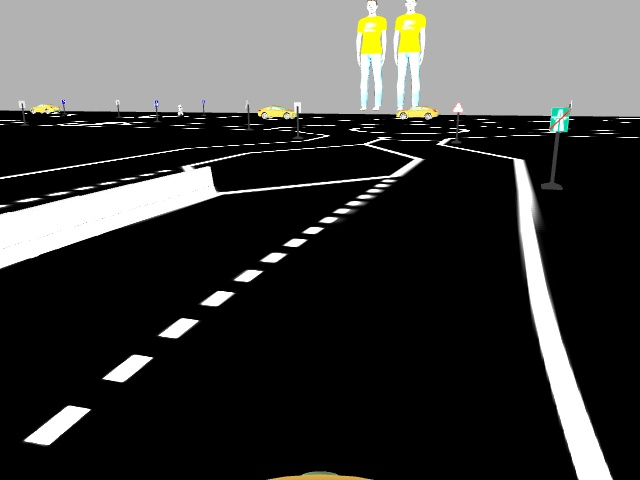HighwayExit: (548, 105, 571, 134)
